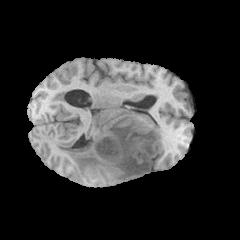glioma: (55, 105, 161, 181)
